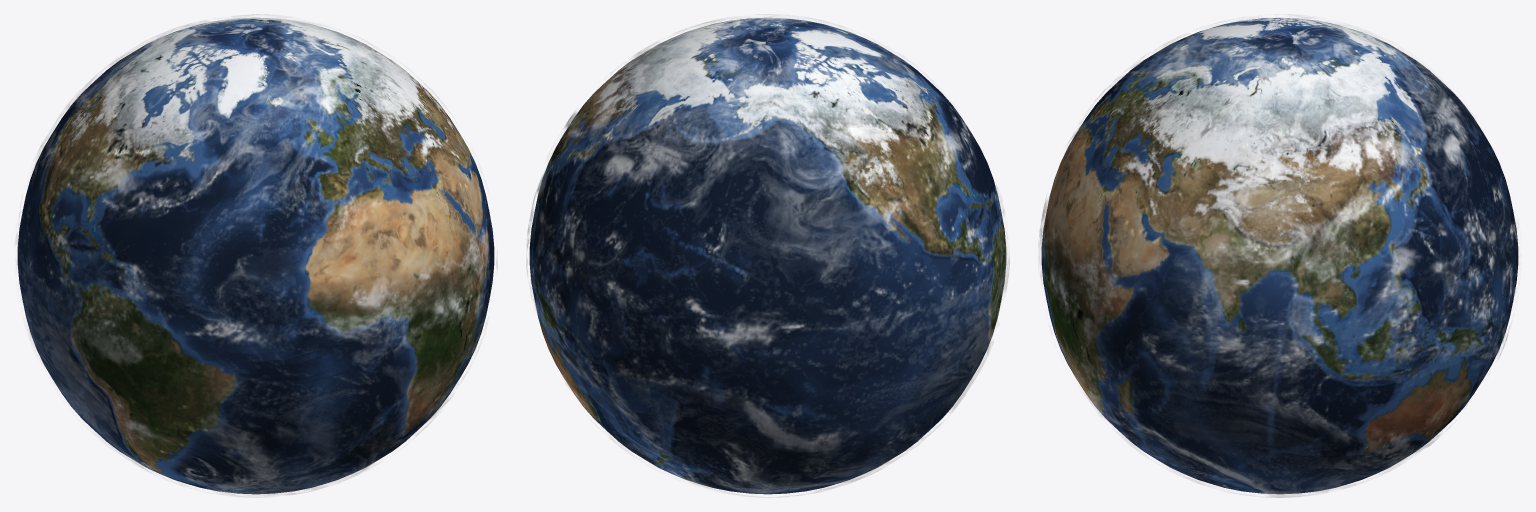
Rendered from earth.gltf.
The picture shows the model from 3 angles, left to right: view 1: azimuth 30°, elevation 25°; view 2: azimuth 150°, elevation 25°; view 3: azimuth 270°, elevation 25°; orthographic projection.
Parts seen in each view (by area): view 1: Sphere, Sphere.001; view 2: Sphere, Sphere.001; view 3: Sphere, Sphere.001.
Boxes of the visible parts, bbox=[...] form: Sphere: bbox=[17, 17, 494, 494]; Sphere.001: bbox=[15, 14, 497, 497]; Sphere: bbox=[529, 17, 1006, 494]; Sphere.001: bbox=[526, 14, 1009, 497]; Sphere: bbox=[1041, 17, 1518, 494]; Sphere.001: bbox=[1038, 14, 1519, 497].
Bounding box in the file's own units: 2.03 × 2.03 × 2.03.
2 materials, 2 textured.
